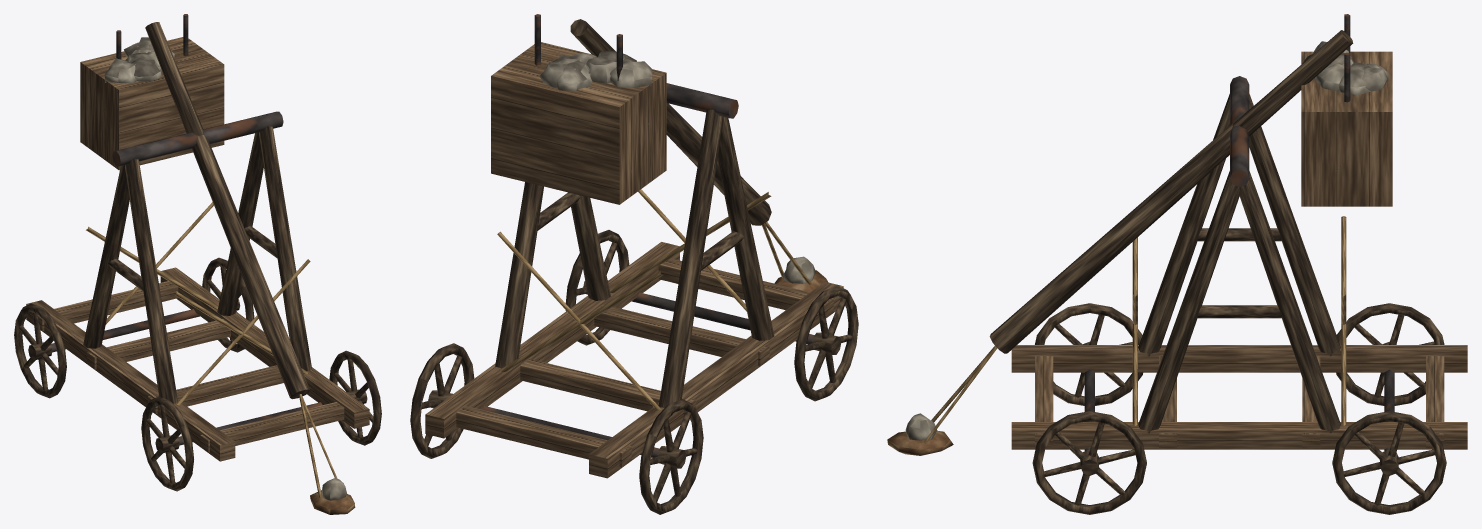
Rendered from catapulta_contrappeso.gltf.
3 renders of one model, left to right at view 1: azimuth 30°, elevation 25°; view 2: azimuth 150°, elevation 25°; view 3: azimuth 270°, elevation 25°, orthographic. The views are drawn at different scales.
Visible parts, largest first — view 1: catapulta_contrappeso; view 2: catapulta_contrappeso; view 3: catapulta_contrappeso.
Part boxes in pixels (box(x1,y1,x2,y2)): catapulta_contrappeso: box(14, 14, 381, 514); catapulta_contrappeso: box(410, 14, 858, 514); catapulta_contrappeso: box(887, 14, 1467, 514).
Bounding box in the file's own units: 2.13 × 3.64 × 4.45.
6 materials, 6 textured.
